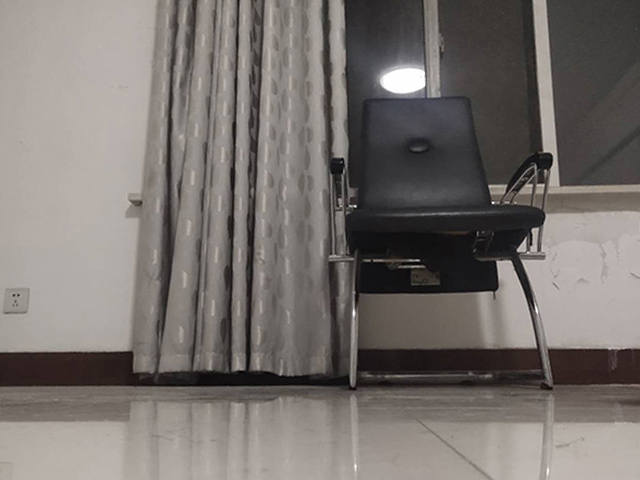curtain: (128, 1, 356, 388)
stool: (327, 94, 556, 392)
